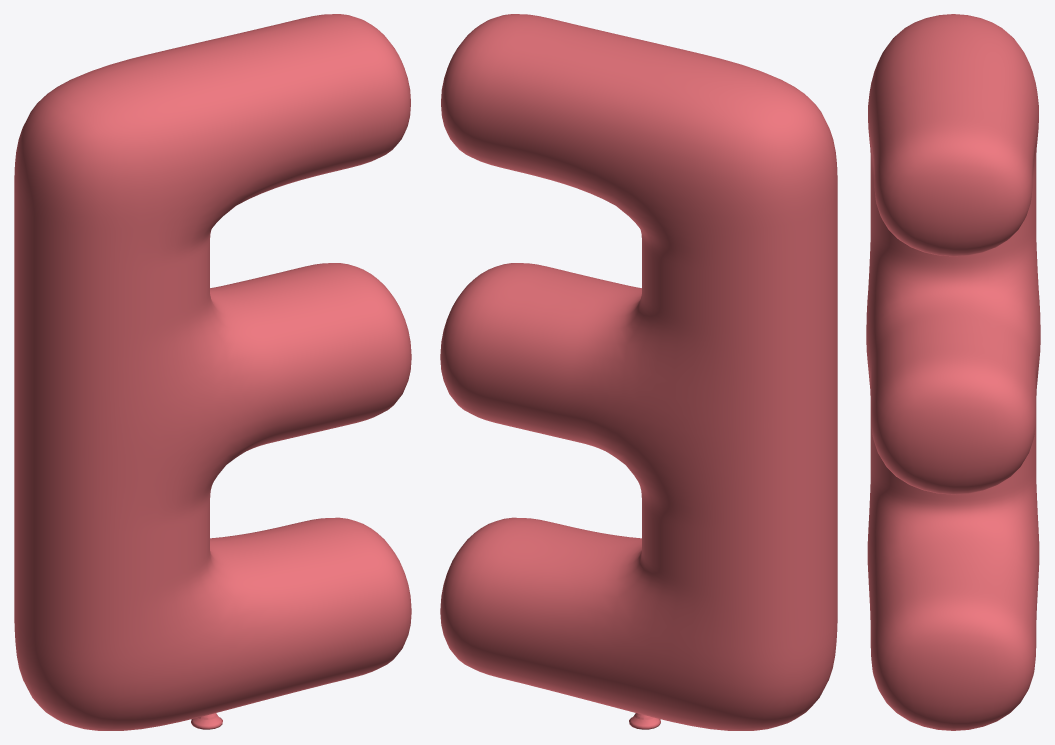
The model's file is LetterE.glb.
The picture shows the model from 3 angles, left to right: view 1: azimuth 30°, elevation 25°; view 2: azimuth 150°, elevation 25°; view 3: azimuth 270°, elevation 25°; orthographic projection. The views are drawn at different scales.
Parts seen in each view (by area): view 1: E; view 2: E; view 3: E.
Part boxes in pixels (<box>): E: <box>14,14,411,730</box>; E: <box>440,14,837,730</box>; E: <box>866,14,1040,730</box>.
Bounding box in the file's own units: 1.81 × 3.18 × 0.8103.
